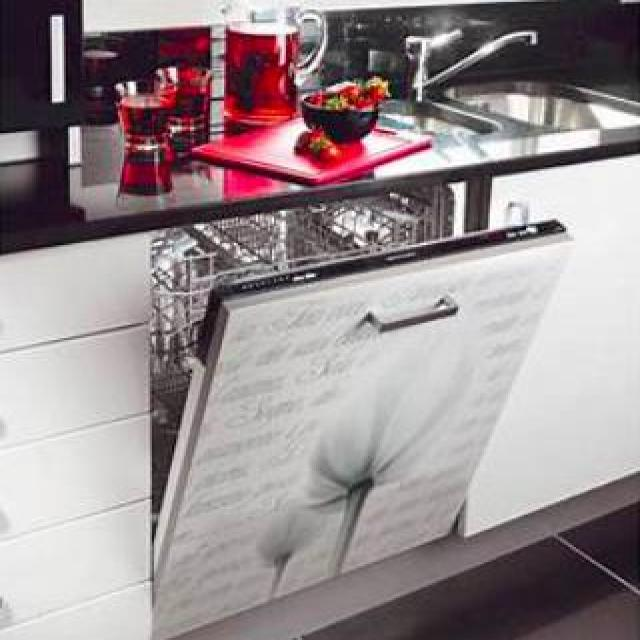dishwasher: (148, 181, 570, 638)
